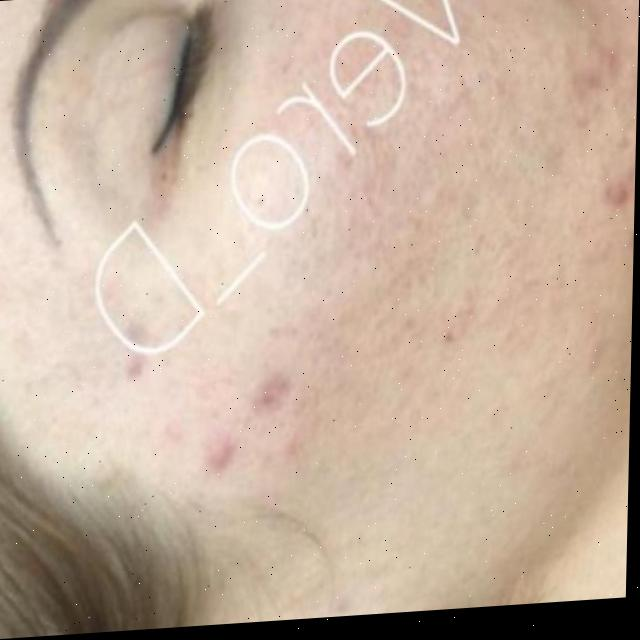Acne: (199, 66, 637, 473)
